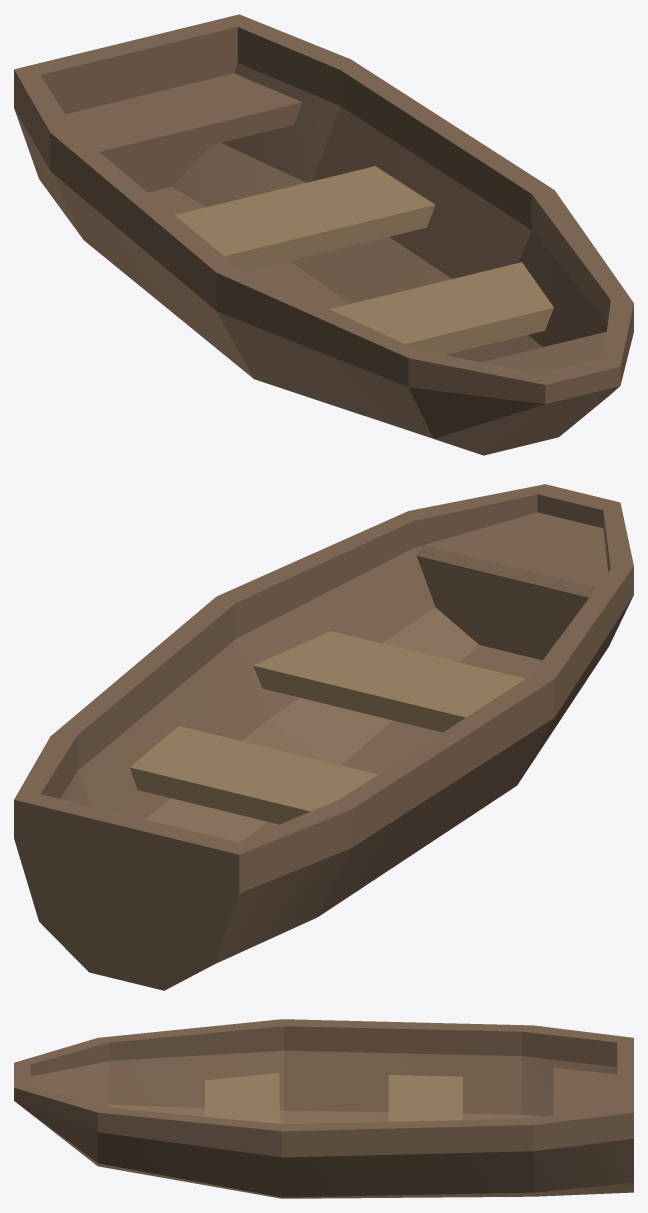
The model's file is ship.obj.
3 views of the same model, one above another, from view 1: azimuth 30°, elevation 25°; view 2: azimuth 150°, elevation 25°; view 3: azimuth 270°, elevation 25° (orthographic). The views are drawn at different scales.
Visible parts, largest first — view 1: ship; view 2: ship; view 3: ship.
Boxes of the visible parts, <box> form: ship: <box>14,14,633,455</box>; ship: <box>14,484,633,990</box>; ship: <box>14,1019,633,1198</box>.
Size of the model in its own units: 1.07 by 0.4662 by 2.5.
